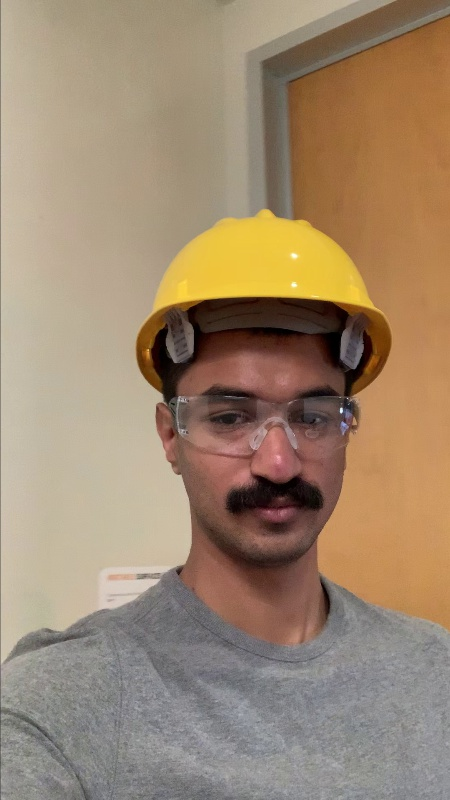glasses: (167, 385, 356, 445)
helmet: (125, 210, 376, 319)
